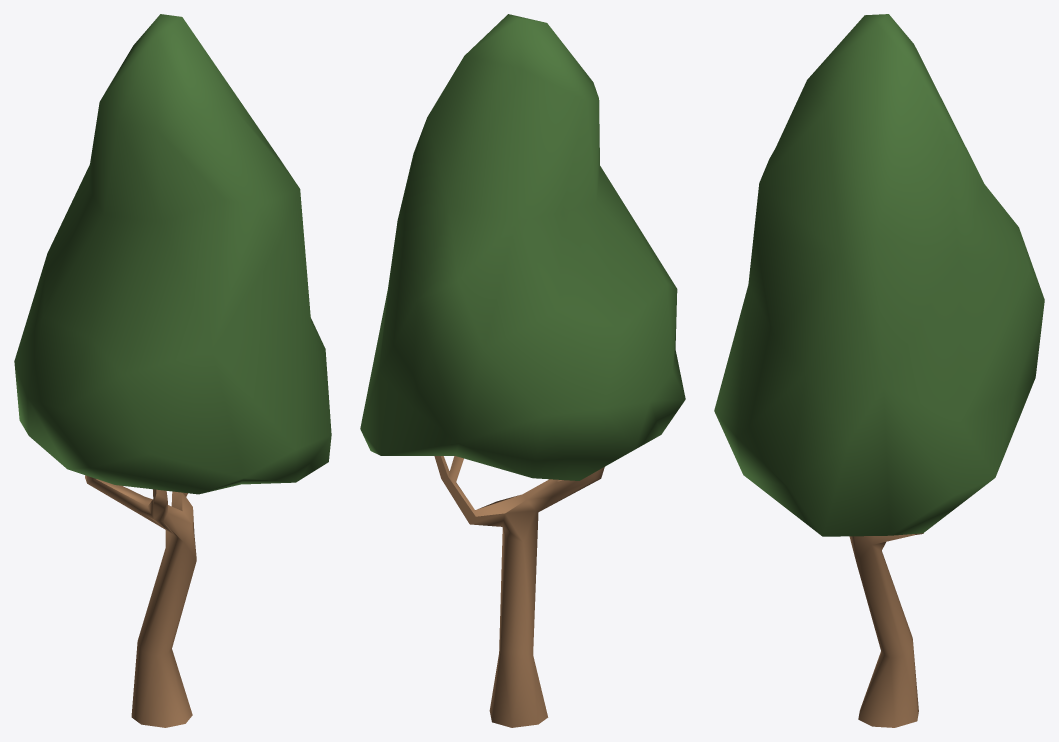
Rendered from Tree02.fbx.
The picture shows the model from 3 angles, left to right: view 1: azimuth 30°, elevation 25°; view 2: azimuth 150°, elevation 25°; view 3: azimuth 270°, elevation 25°; orthographic projection.
Visible parts, largest first — view 1: Tree02; view 2: Tree02; view 3: Tree02.
Boxes of the visible parts, <box> form: Tree02: <box>14,14,331,727</box>; Tree02: <box>360,14,685,727</box>; Tree02: <box>714,14,1044,727</box>.
Size of the model in its own units: 2.3 by 5.41 by 2.31.
